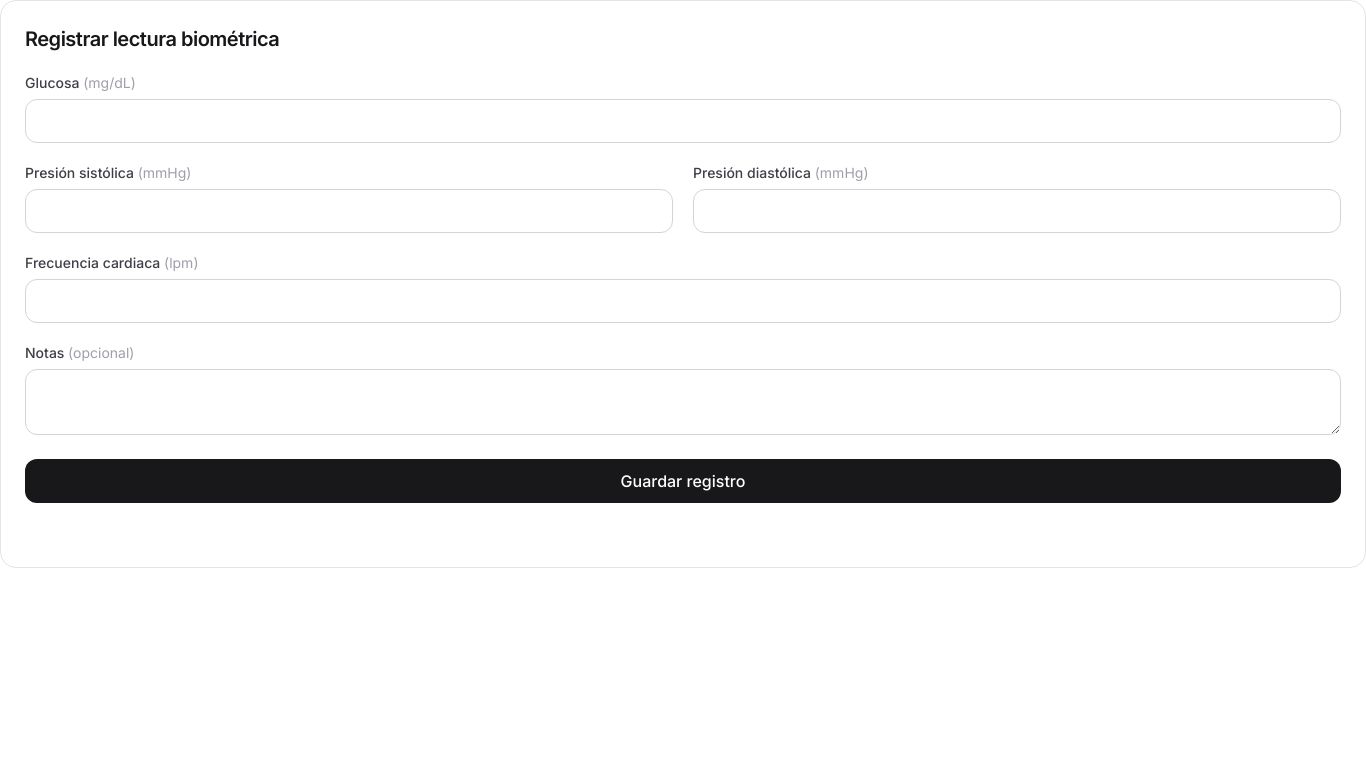
Test case: BiometricForm › envía el registro y muestra confirmación cuando los valores son válidos
The width and height of the screenshot is (1366, 768).
Type "110" into the number field labelled "Glucosa (mg/dL)" at (683, 121), box [25,99,1341,143]
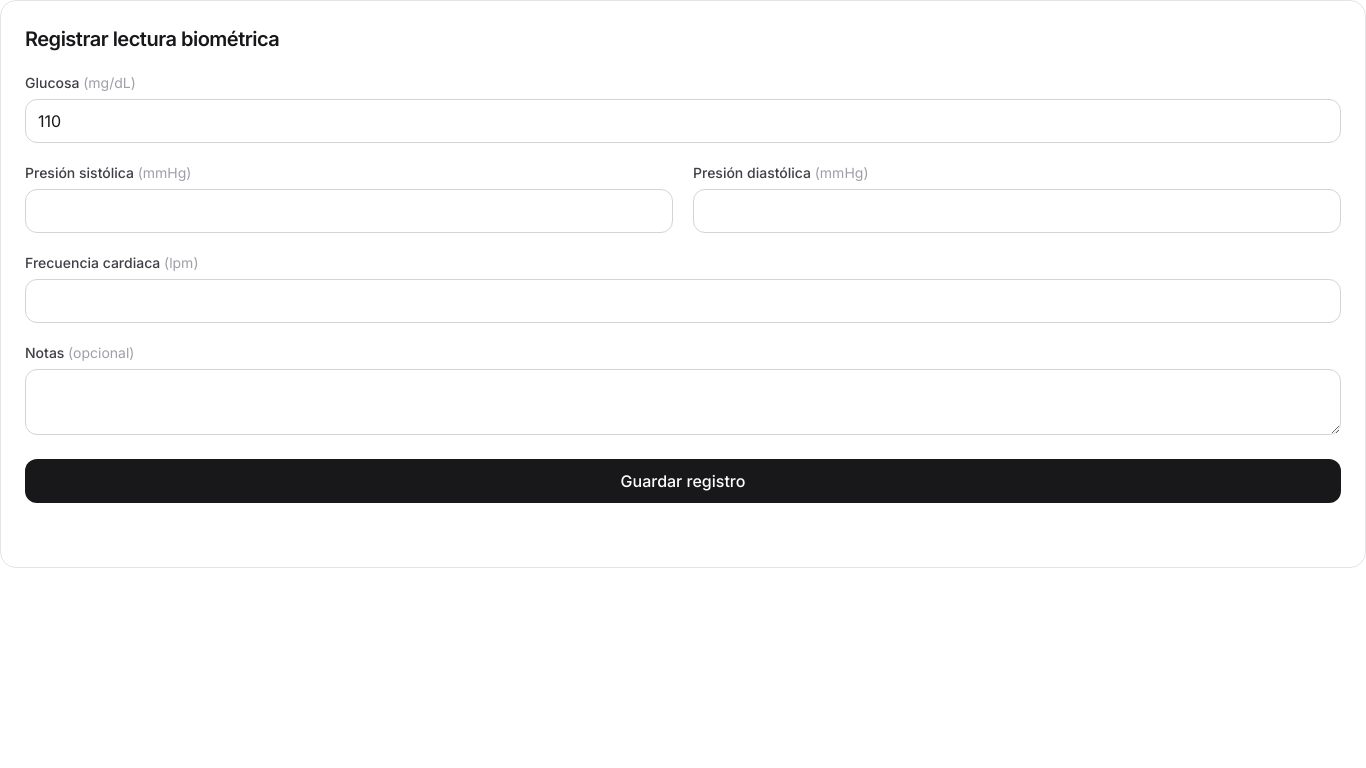
Type "120" into the number field labelled "Presión sistólica (mmHg)" at (349, 211), box [25,189,673,233]
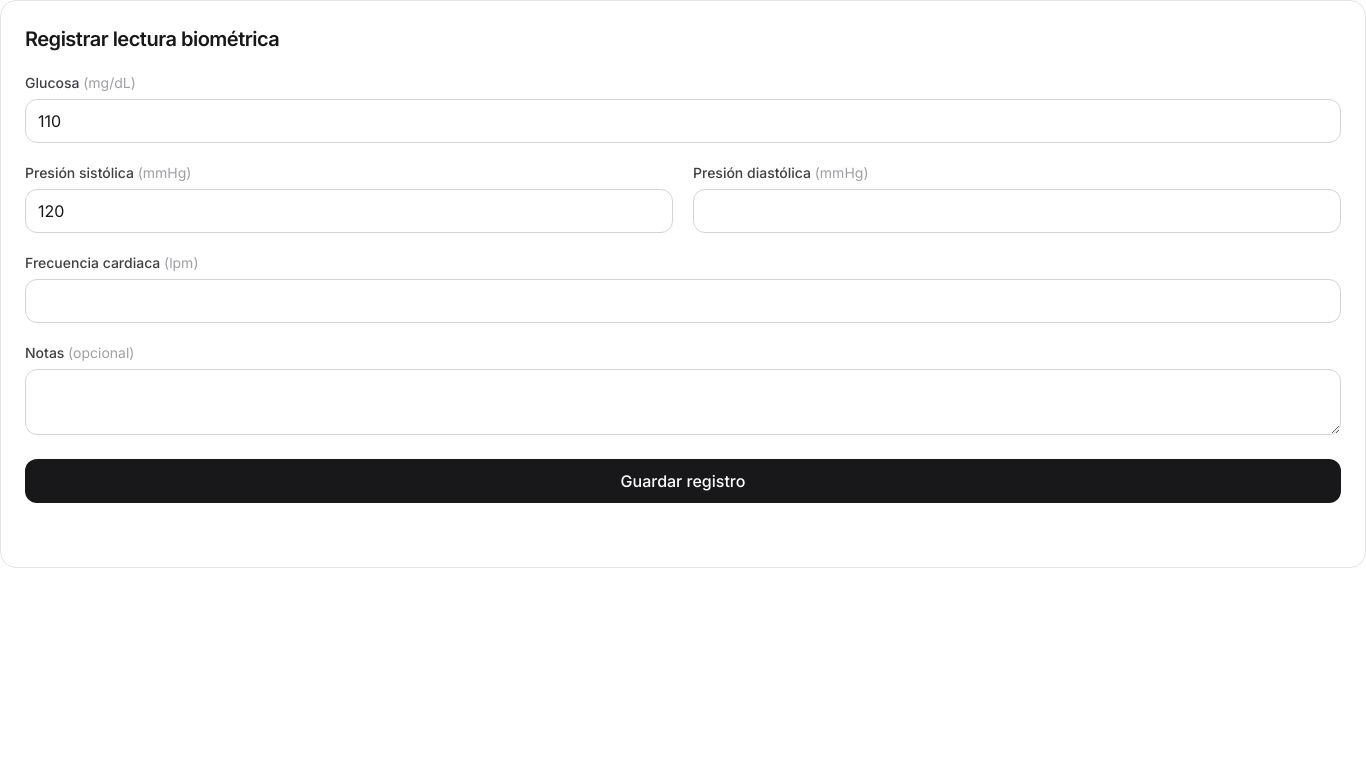
Type "80" into the number field labelled "Presión diastólica (mmHg)" at (1017, 211), box [693,189,1341,233]
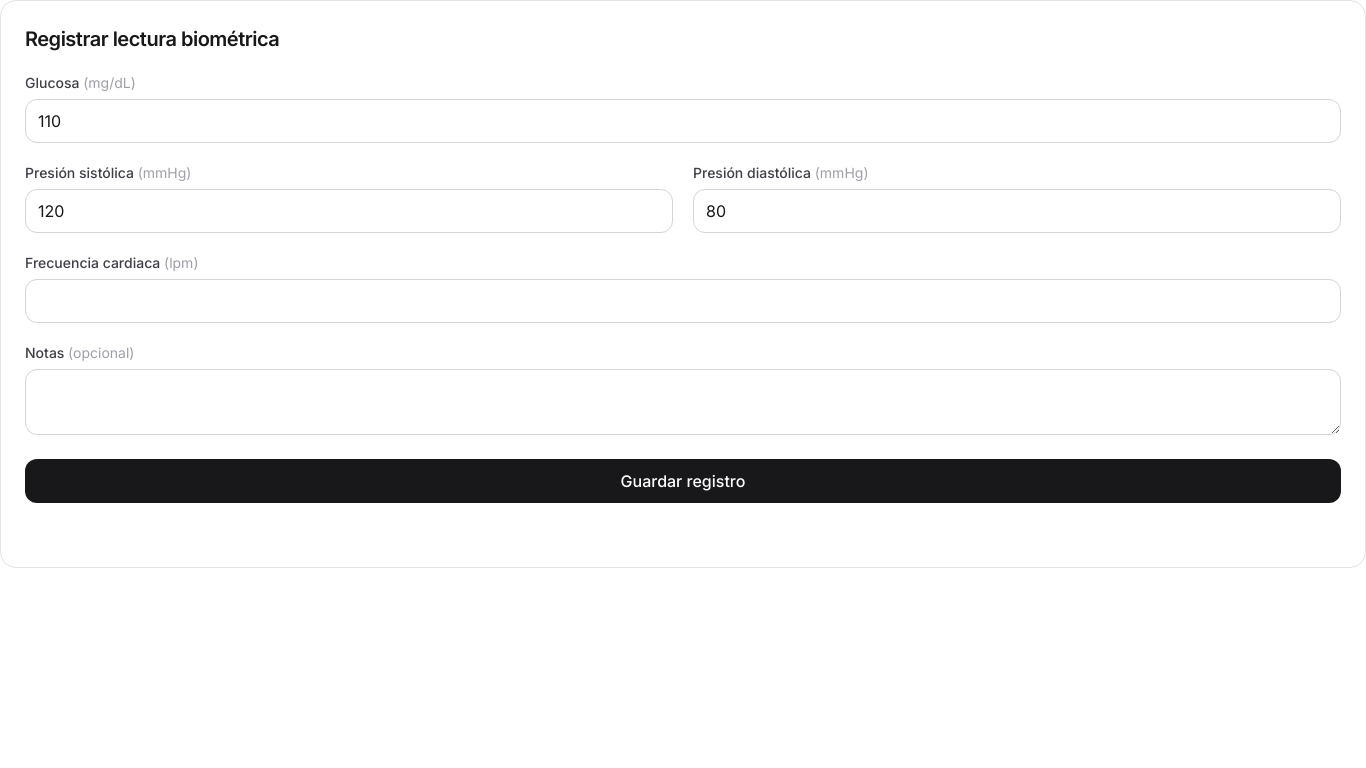
Type "70" into the number field labelled "Frecuencia cardiaca (lpm)" at (683, 301), box [25,279,1341,323]
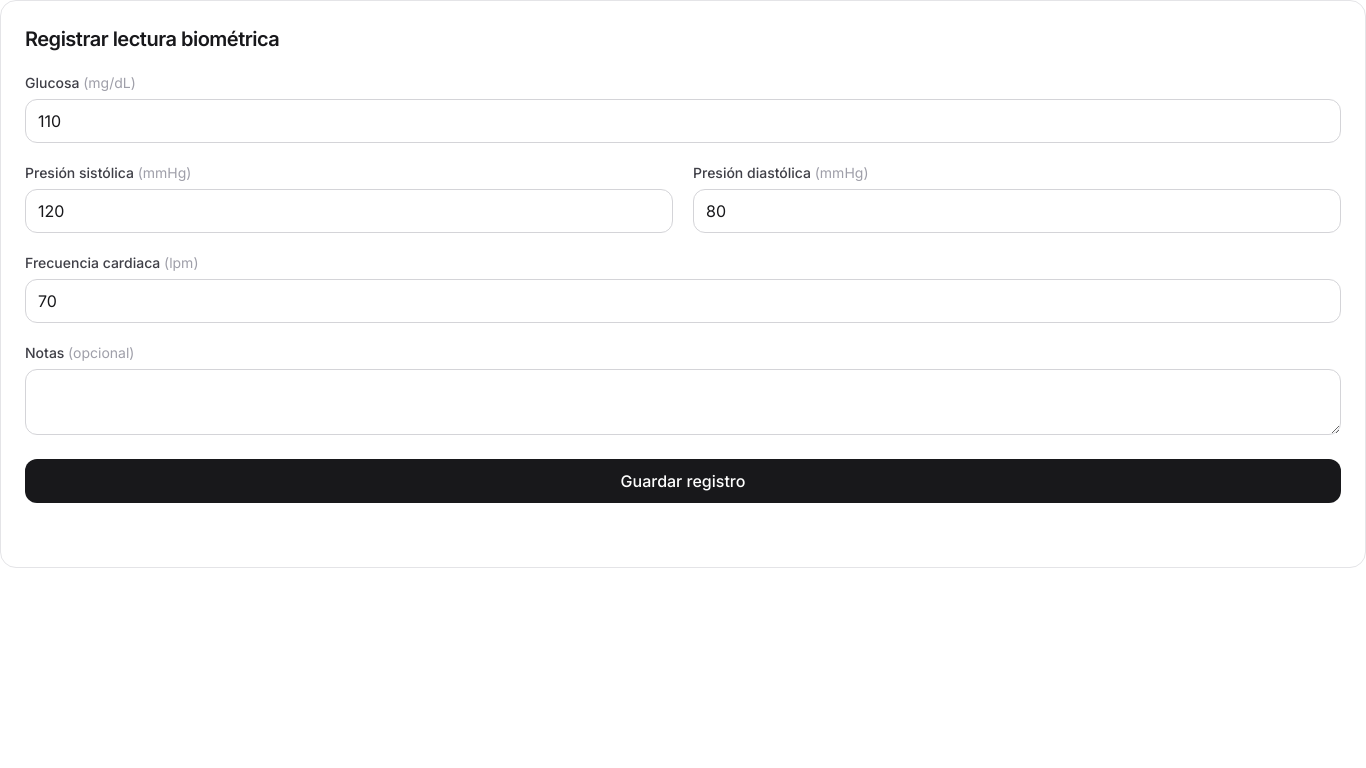
Click the button "Guardar registro" at (683, 481), box [25,459,1341,503]
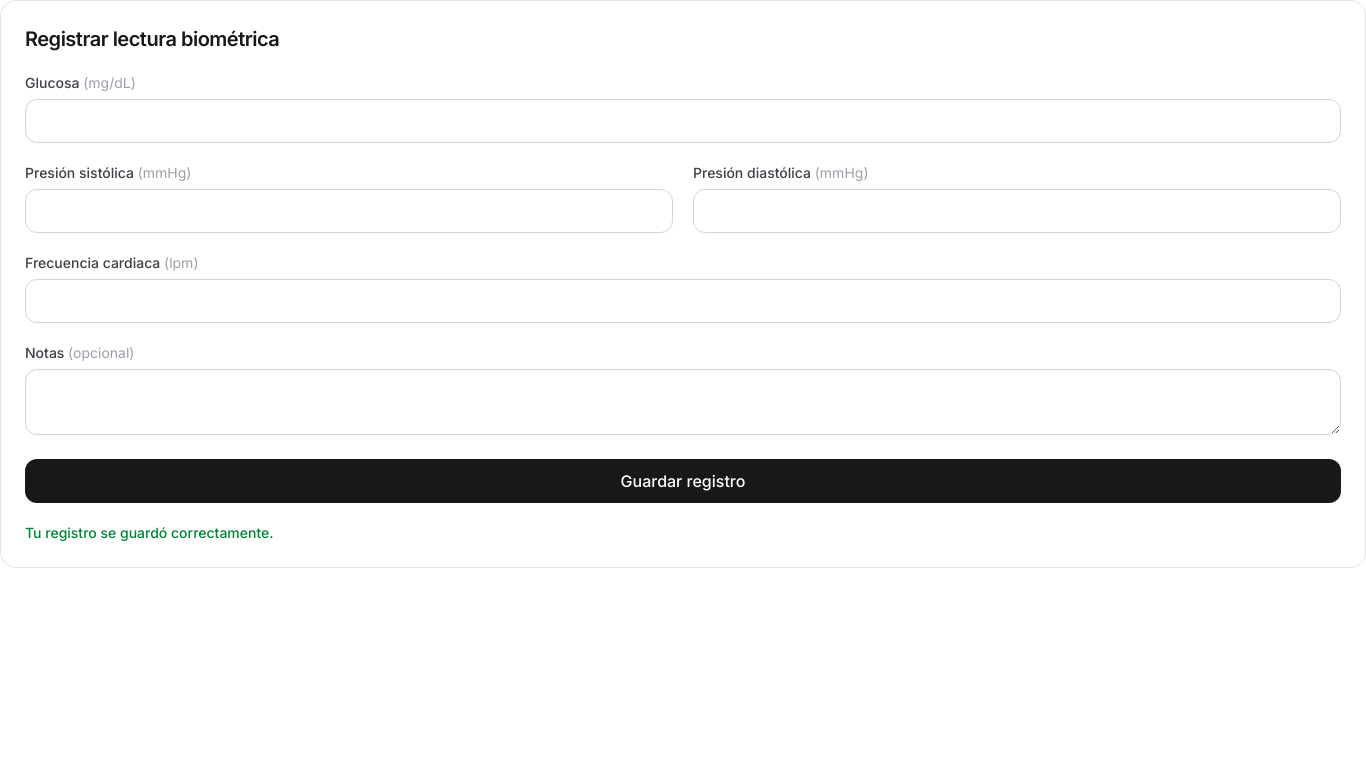
Check: the text "Tu registro se guardó correctamente." is shown, box [25,524,274,541]
